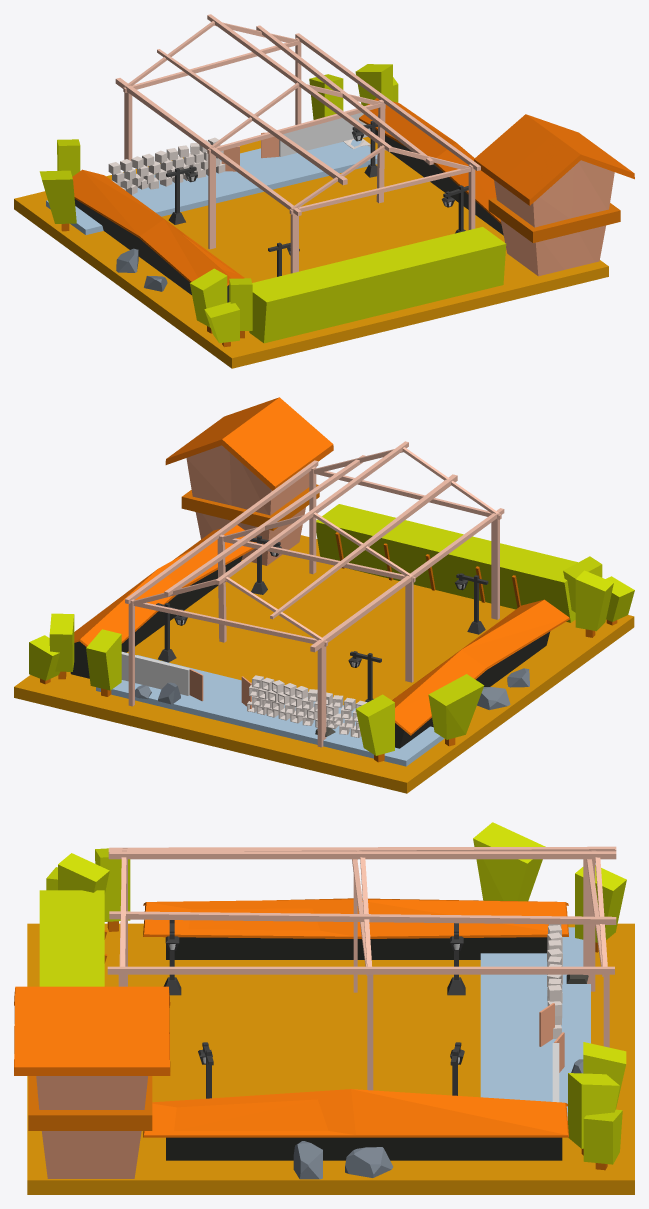
The picture shows the model from 3 angles, top to bottom: view 1: azimuth 30°, elevation 25°; view 2: azimuth 150°, elevation 25°; view 3: azimuth 270°, elevation 25°; orthographic projection. The views are drawn at different scales.
Visible parts, largest first — view 1: Cube, Cube.029, Cube.088, Cube.041, Cube.052, Cube.025, Cube.001, Cube.042, Cube.010, Cube.009, Cube.008, Cube.028 (+19 smaller); view 2: Cube, Cube.029, Cube.041, Cube.052, Cube.025, Cube.088, Cube.001, Cube.059, Cube.009, Cube.008, Cube.010, Cube.027 (+23 smaller); view 3: Cube, Cube.001, Cube.041, Cube.052, Cube.025, Cube.027, Cube.088, Cube.028, Cube.029, Cube.005, Cube.003, Cube.004 (+18 smaller).
Part boxes in pixels (x1=…): Cube: x1=14, y1=137, x2=608, y2=368; Cube.029: x1=249, y1=227, x2=506, y2=343; Cube.088: x1=494, y1=160, x2=614, y2=276; Cube.041: x1=474, y1=114, x2=634, y2=205; Cube.052: x1=46, y1=139, x2=377, y2=234; Cube.025: x1=72, y1=169, x2=244, y2=285; Cube.001: x1=359, y1=98, x2=501, y2=224; Cube.042: x1=488, y1=197, x2=620, y2=242; Cube.010: x1=289, y1=145, x2=470, y2=214; Cube.009: x1=123, y1=21, x2=300, y2=92; Cube.008: x1=207, y1=82, x2=383, y2=154; Cube.028: x1=74, y1=199, x2=229, y2=302; Cube: x1=14, y1=535, x2=634, y2=793; Cube.029: x1=316, y1=504, x2=577, y2=622; Cube.041: x1=165, y1=397, x2=333, y2=490; Cube.052: x1=96, y1=655, x2=444, y2=766; Cube.025: x1=392, y1=599, x2=569, y2=735; Cube.088: x1=186, y1=445, x2=309, y2=565; Cube.001: x1=74, y1=525, x2=262, y2=646; Cube.059: x1=428, y1=674, x2=484, y2=739; Cube.009: x1=133, y1=577, x2=327, y2=646; Cube.008: x1=223, y1=512, x2=415, y2=582; Cube.010: x1=314, y1=447, x2=501, y2=519; Cube.027: x1=70, y1=555, x2=242, y2=678; Cube: x1=27, y1=923, x2=634, y2=1194; Cube.001: x1=143, y1=1089, x2=568, y2=1137; Cube.041: x1=14, y1=986, x2=170, y2=1075; Cube.052: x1=480, y1=927, x2=590, y2=1120; Cube.025: x1=143, y1=898, x2=568, y2=938; Cube.027: x1=166, y1=1137, x2=562, y2=1160; Cube.088: x1=36, y1=1076, x2=147, y2=1178; Cube.028: x1=166, y1=937, x2=547, y2=959; Cube.029: x1=39, y1=890, x2=104, y2=986; Cube.005: x1=107, y1=966, x2=614, y2=974; Cube.003: x1=109, y1=851, x2=616, y2=859; Cube.004: x1=109, y1=911, x2=616, y2=924.
Bounding box in the file's own units: 66.97 × 23.31 × 61.3.
